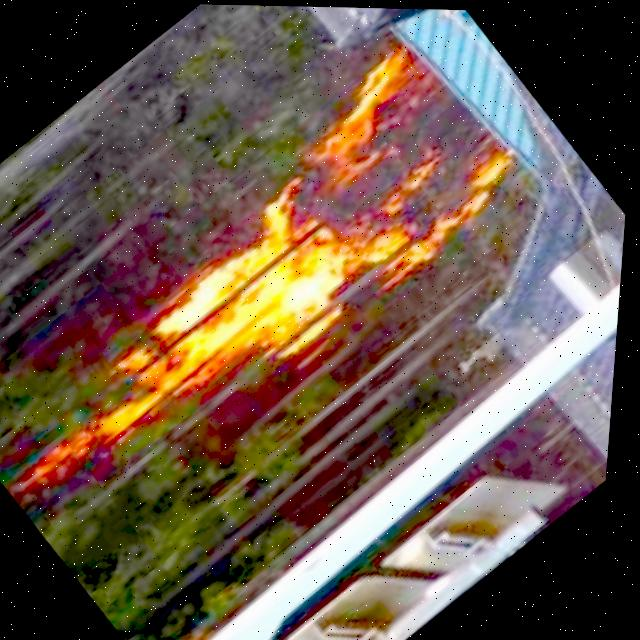Fire: (0, 32, 532, 530)
